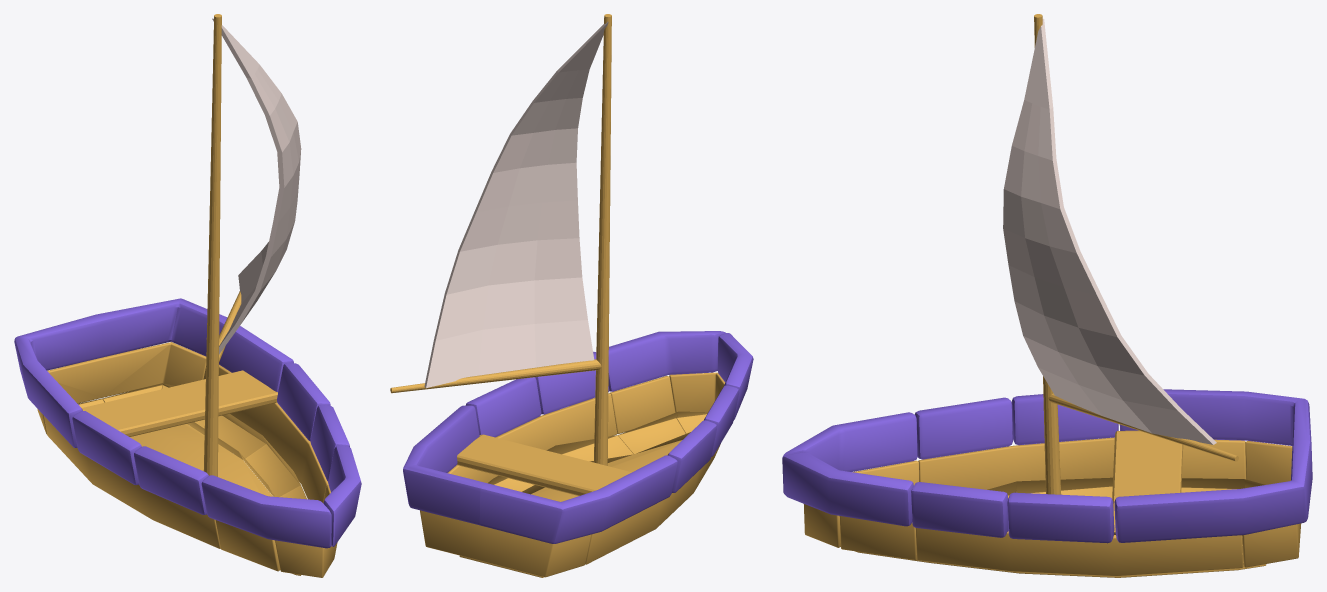
File: boatAnimated.fbx
The picture shows the model from 3 angles, left to right: view 1: azimuth 30°, elevation 25°; view 2: azimuth 150°, elevation 25°; view 3: azimuth 270°, elevation 25°; orthographic projection. The views are drawn at different scales.
Visible parts, largest first — view 1: Boat; view 2: Boat; view 3: Boat.
Part boxes in pixels (box(x1,y1,x2,y2)): Boat: box(14, 14, 361, 577); Boat: box(390, 14, 753, 577); Boat: box(782, 14, 1312, 577).
Bounding box in the file's own units: 266 × 521 × 467.
